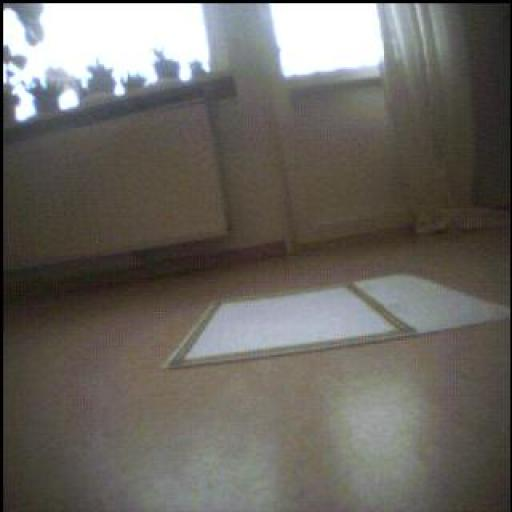Pad: (166, 276, 511, 369)
